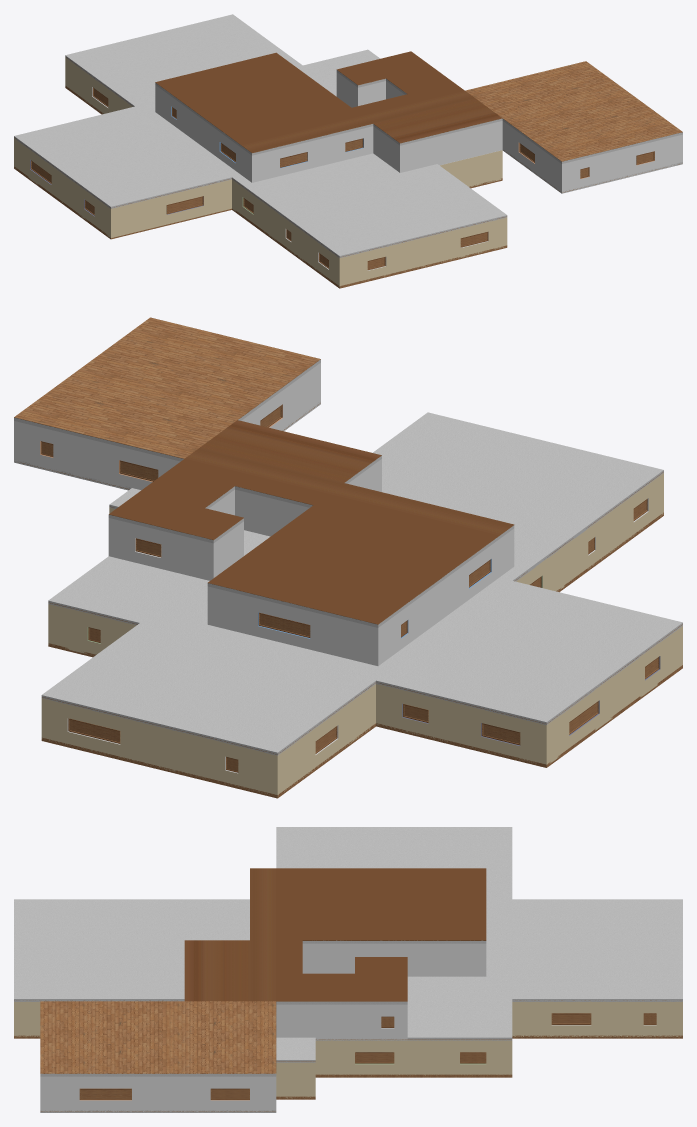
File: Housewindows.fbx
3 views of the same model, one above another, from view 1: azimuth 30°, elevation 25°; view 2: azimuth 150°, elevation 25°; view 3: azimuth 270°, elevation 25° (orthographic). The views are drawn at different scales.
Visible parts, largest first — view 1: sufit_parter, pietro_sufit, parter_sciana, pietro_sciana, sufit, parter, podloga_pokoj_2; view 2: sufit_parter, pietro_sufit, parter_sciana, pietro_sciana, sufit, parter, podloga_pokoj_2; view 3: sufit_parter, pietro_sufit, pietro_sciana, parter_sciana, sufit, parter, okno_004, podloga_pokoj_2.
Boxes of the visible parts, x1,y1,x2,y2 form: sufit_parter: (14,14,682,257); pietro_sufit: (155,51,682,161); parter_sciana: (14,57,507,286); pietro_sciana: (155,72,682,192); sufit: (155,70,682,163); parter: (14,86,507,288); podloga_pokoj_2: (14,57,679,257); sufit_parter: (14,401,682,755); pietro_sufit: (14,317,514,624); parter_sciana: (41,473,682,796); pietro_sciana: (14,363,514,665); sufit: (14,359,514,627); parter: (41,512,682,798); podloga_pokoj_2: (20,403,682,754); sufit_parter: (14,827,682,1112); pietro_sufit: (40,868,486,1073); pietro_sciana: (40,943,486,1112); parter_sciana: (14,1001,682,1098); sufit: (40,940,486,1076); parter: (14,1035,682,1099); okno_004: (80,1089,130,1098); podloga_pokoj_2: (14,1000,665,1111).
Size of the model in its own units: 5100 by 640 by 5100.
10 materials, 3 textured.
